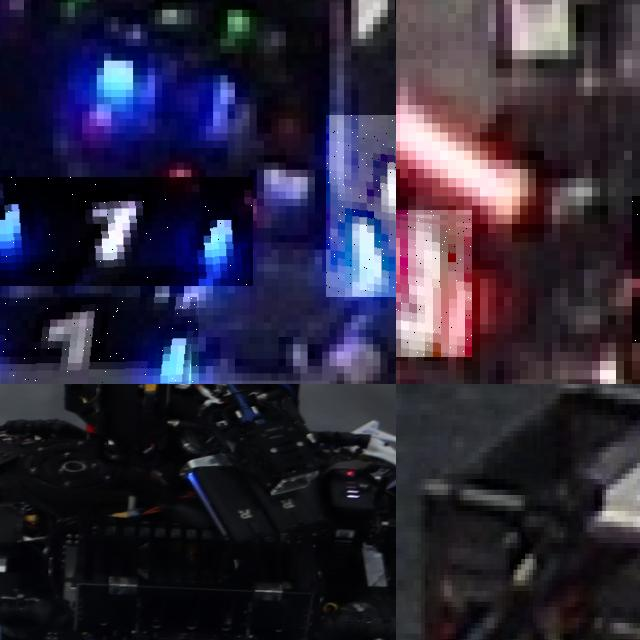B1: (0, 177, 253, 286), (0, 297, 198, 384), (325, 115, 396, 297)
R3: (396, 210, 472, 356)
